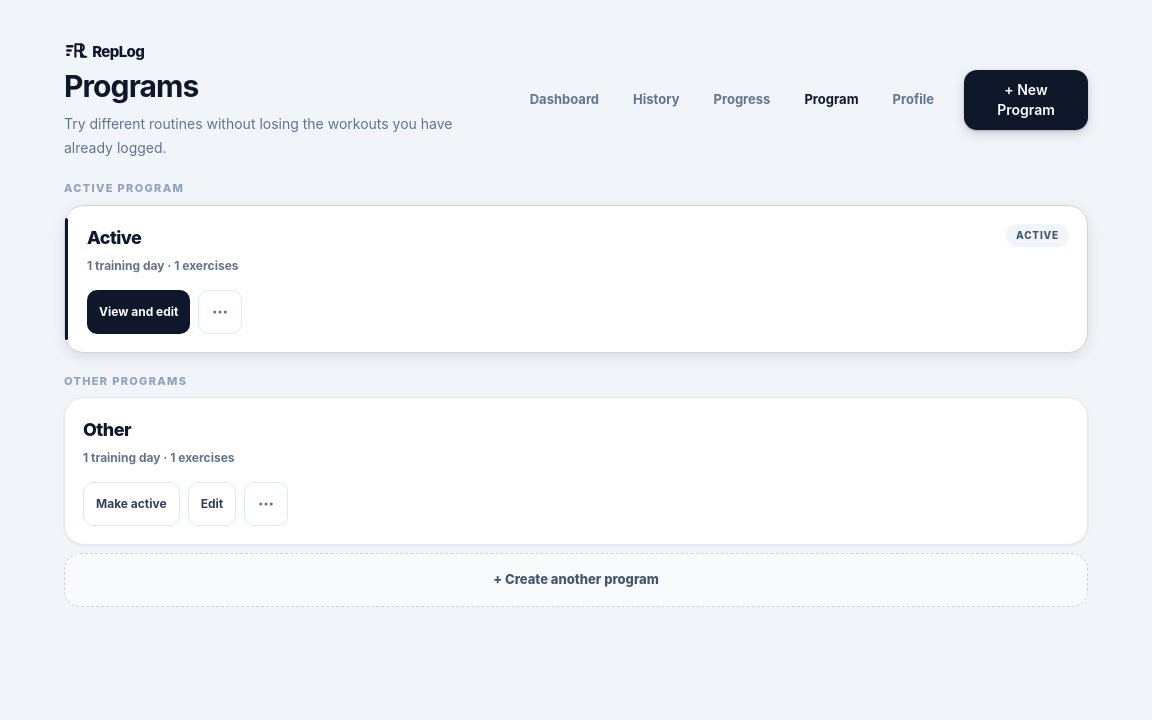
Test: program library navigation focus › locks conflicting library controls during activation
This screenshot has width=1152, height=720.
Click the button "Make active".
click(131, 504)  # box top-left (83, 482), bottom-right (180, 526)
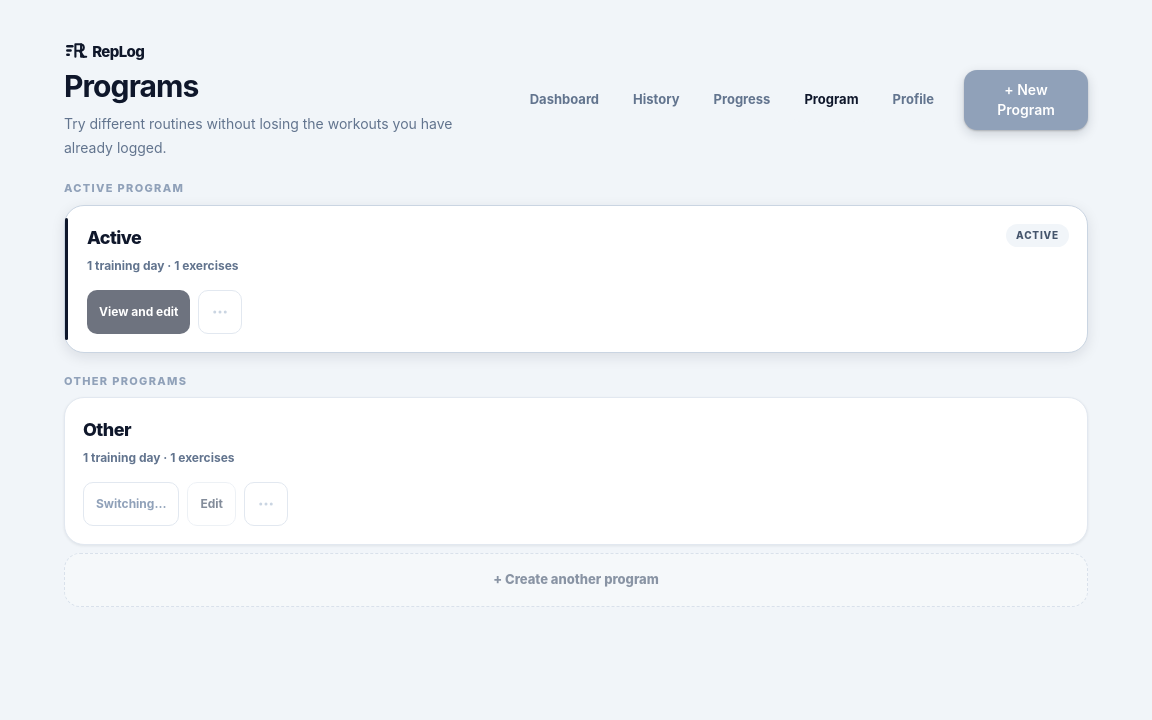
Expected: the button "+ New Program" is disabled, top-left (964, 70), bottom-right (1088, 130)
Expected: the button "+ Create another program" is disabled, top-left (64, 553), bottom-right (1088, 607)
Expected: the button "Switching..." is disabled, top-left (83, 482), bottom-right (180, 526)
